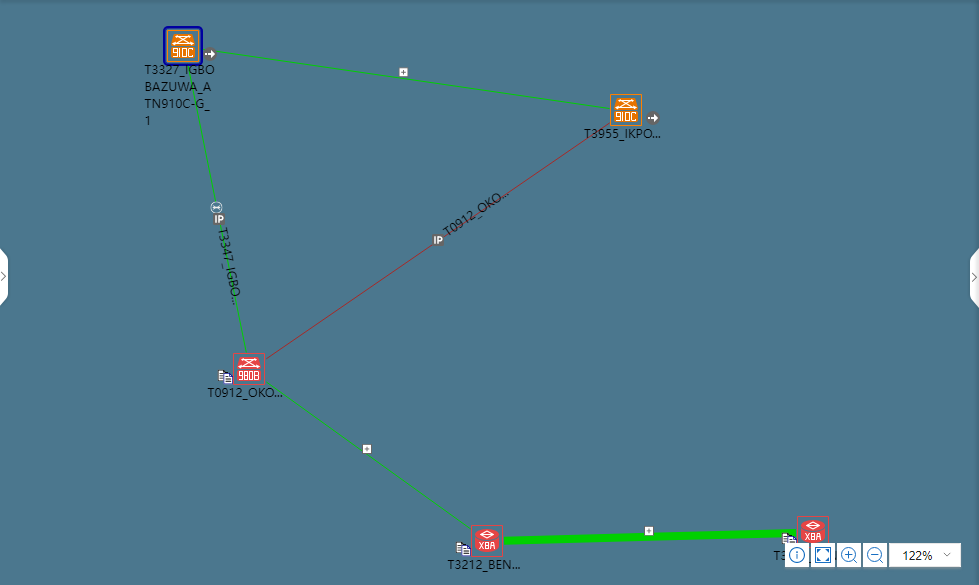ATN_Orange: (168, 32, 196, 62), (615, 94, 644, 121)
ATN_Red: (236, 357, 265, 386)
Link_Green: (266, 381, 470, 533), (226, 51, 613, 107), (187, 69, 252, 355), (505, 528, 795, 545)
Link_Red: (266, 124, 604, 357)
Router_Red: (798, 516, 826, 545), (474, 528, 502, 556)
